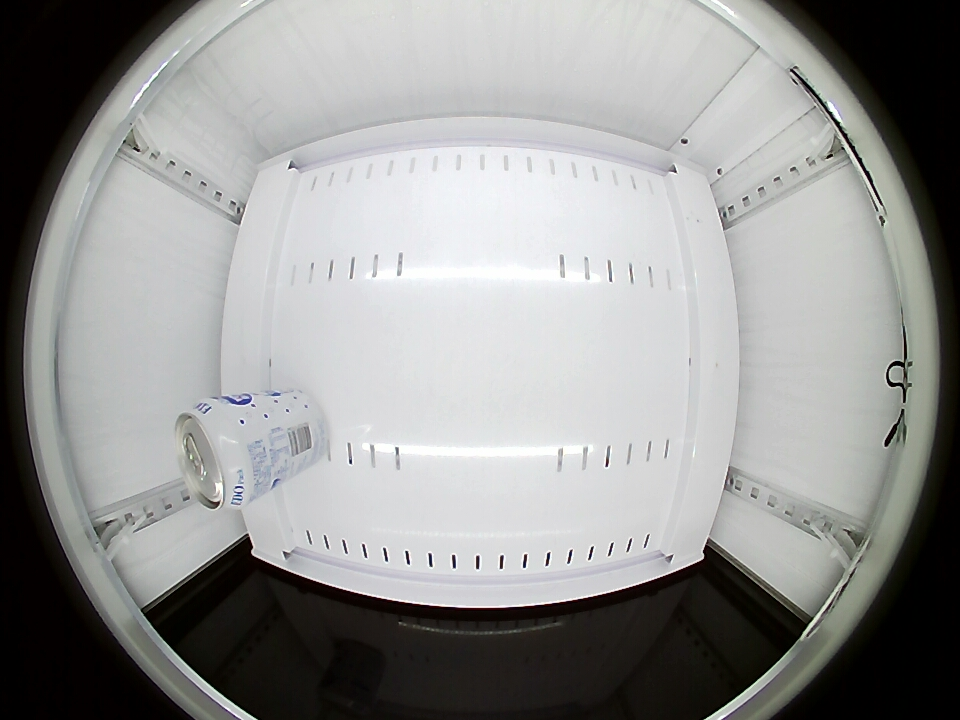rusuanjunqishui: (175, 397, 264, 511)
